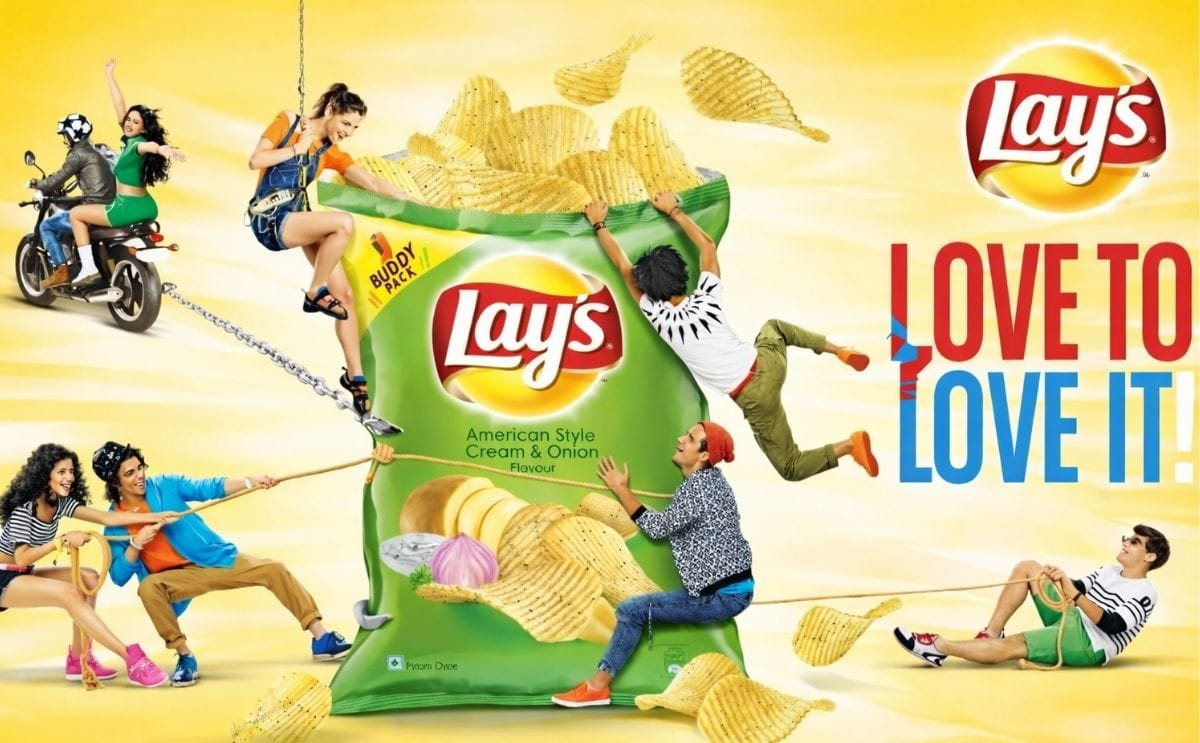Headline: (873, 239, 1200, 502)
Product: (241, 0, 902, 743)
logo: (947, 23, 1175, 221), (416, 250, 633, 429)
